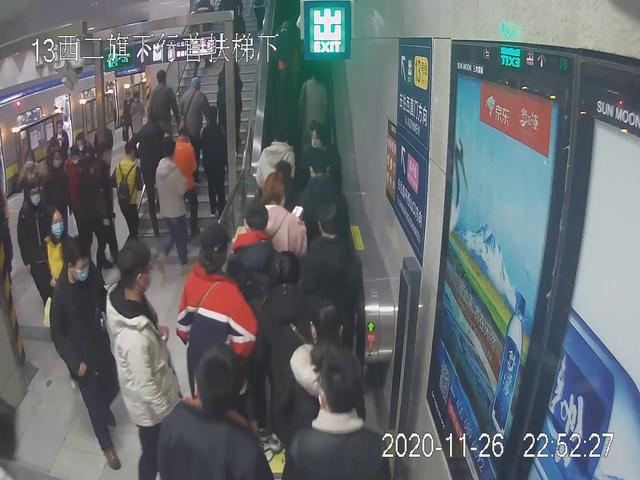person: (104, 235, 188, 480), (174, 221, 258, 438), (52, 233, 127, 465), (12, 181, 64, 342), (150, 135, 188, 268), (109, 141, 143, 244), (150, 68, 182, 152), (182, 74, 207, 164)
